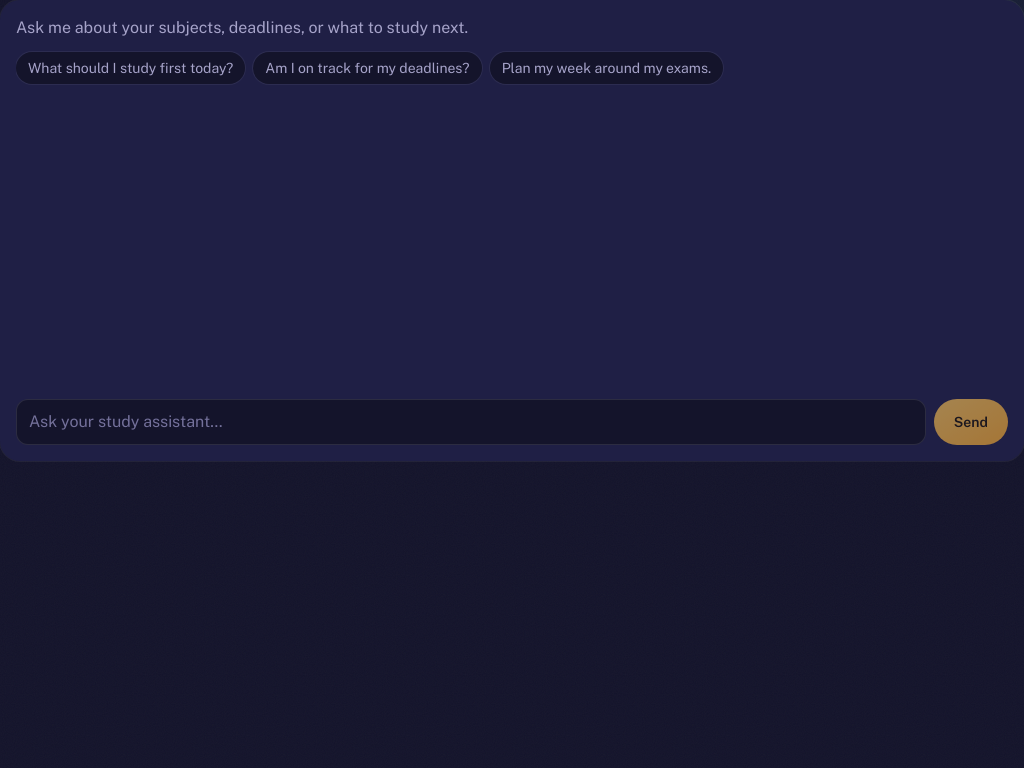
Test: AssistantChat › surfaces an error when the assistant fails
Type "hello" into the field named "message". click: (471, 422)
box: [16,399,926,445]
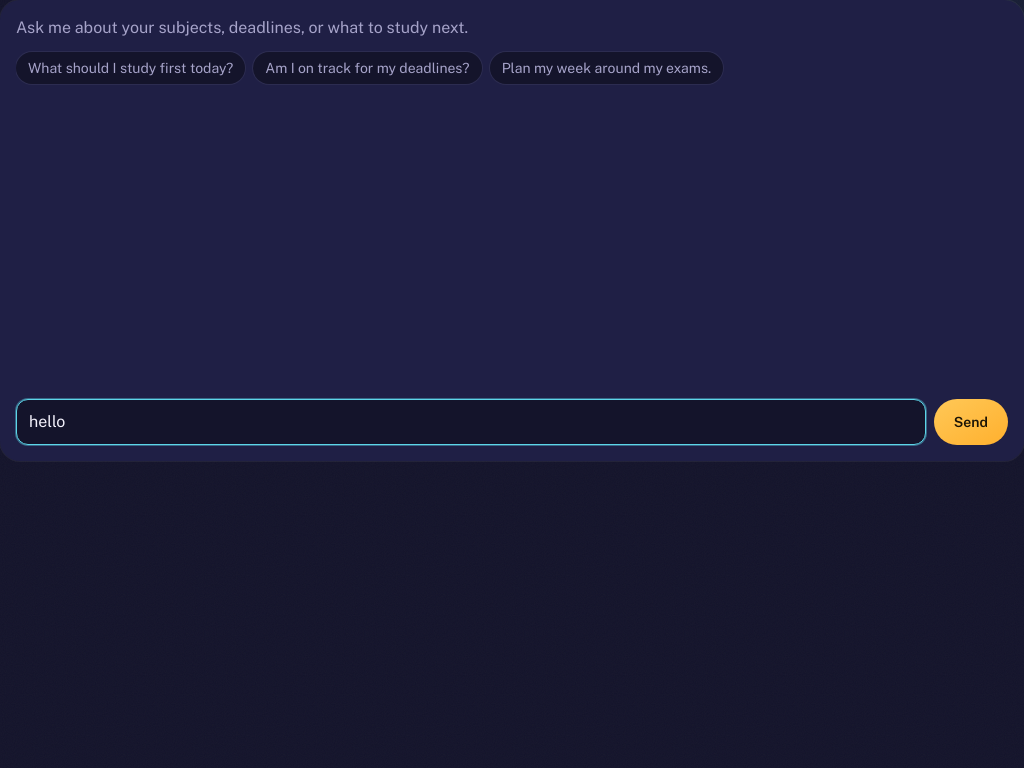
Click the button "Send". click: (971, 422)
box: [934,399,1008,445]
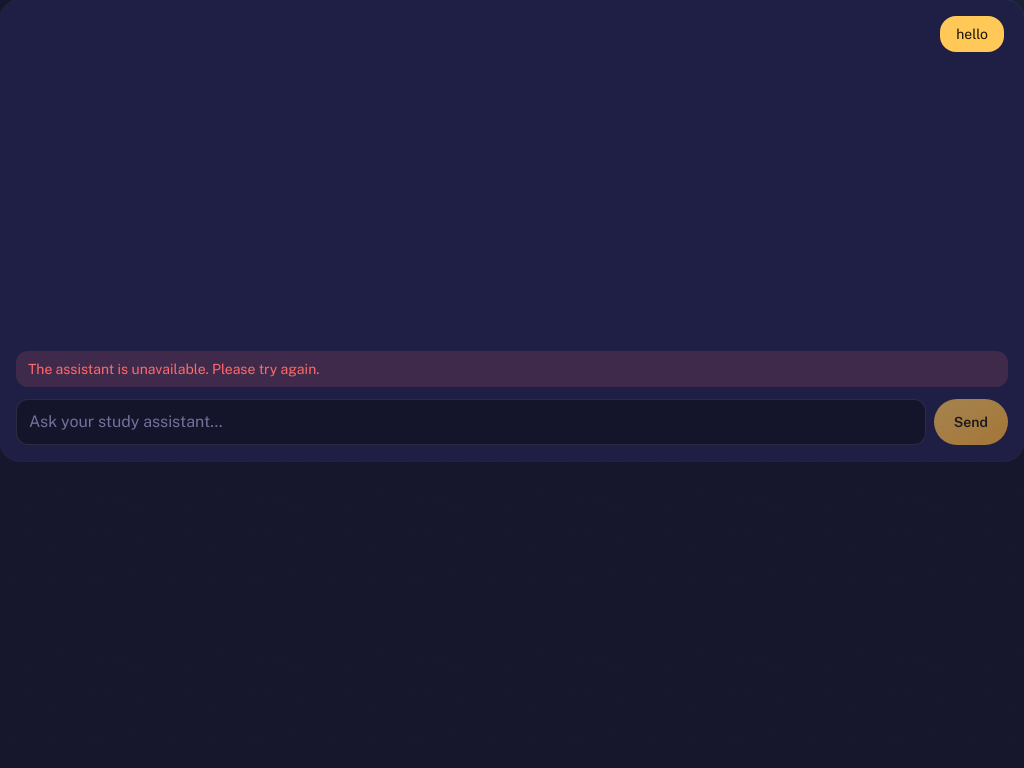
Check: the message shows "unavailable", box [28,361,319,377]
